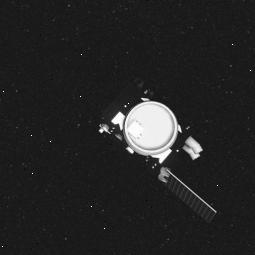proba_3_csc: (96, 84, 222, 222)
